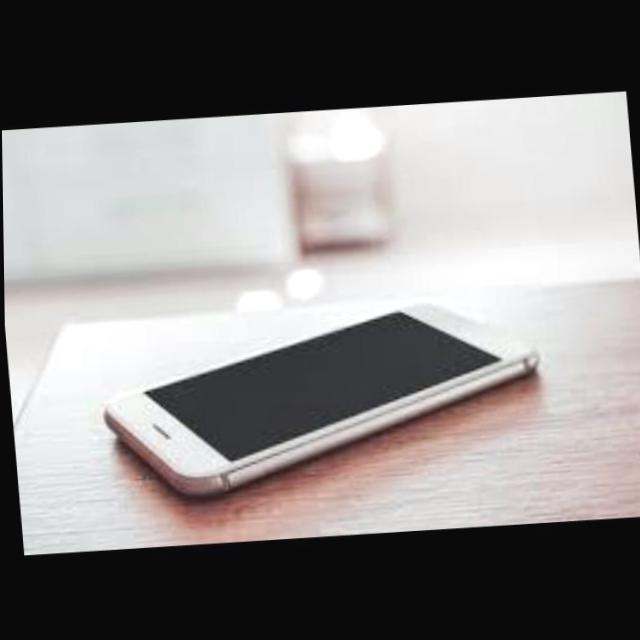Smartphone: (83, 284, 567, 521)
